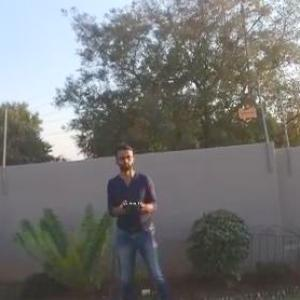follow: (102, 137, 176, 299)
